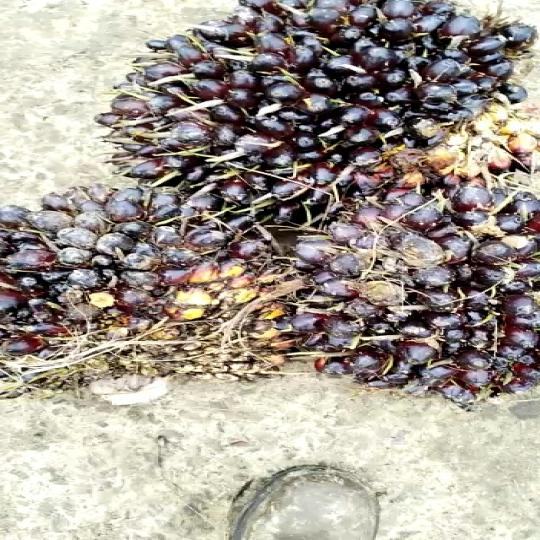mentah: (84, 0, 536, 213), (0, 174, 295, 402), (252, 175, 540, 407)
